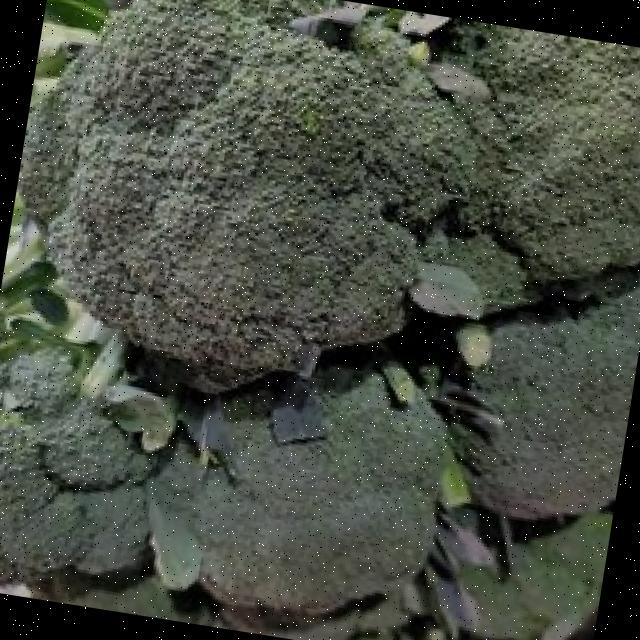Broccoli: (20, 0, 474, 391), (20, 0, 472, 391), (151, 373, 445, 613), (194, 374, 443, 613), (435, 18, 640, 277), (441, 18, 640, 278), (452, 277, 640, 516), (453, 277, 640, 516)
